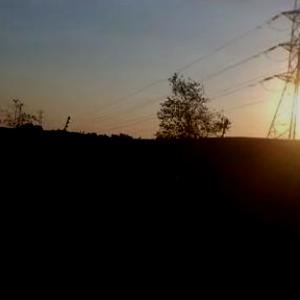follow: (127, 136, 200, 299)
